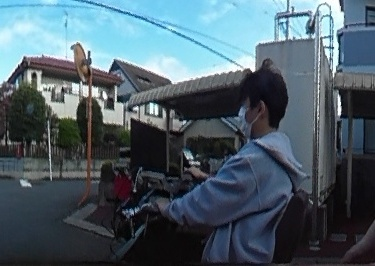person: (134, 61, 299, 266)
